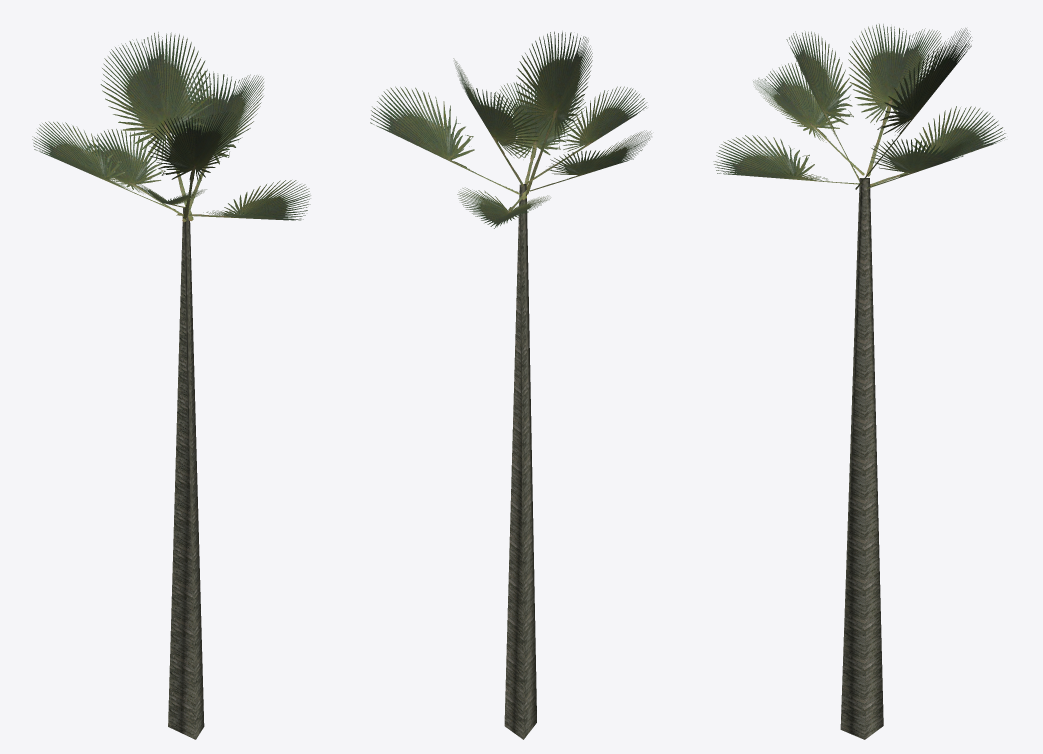
Rendered from ever_palmtree_lrg_l2.fbx.
3 renders of one model, left to right at view 1: azimuth 30°, elevation 25°; view 2: azimuth 150°, elevation 25°; view 3: azimuth 270°, elevation 25°, orthographic. The views are drawn at different scales.
Parts seen in each view (by area): view 1: mesh_node; view 2: mesh_node; view 3: mesh_node.
Part boxes in pixels (x1,y1,x2,y2): mesh_node: [32, 32, 310, 739]; mesh_node: [370, 31, 651, 739]; mesh_node: [713, 24, 1005, 739].
Bounding box in the file's own units: 10.64 × 26.23 × 11.16.
2 materials, 2 textured.
